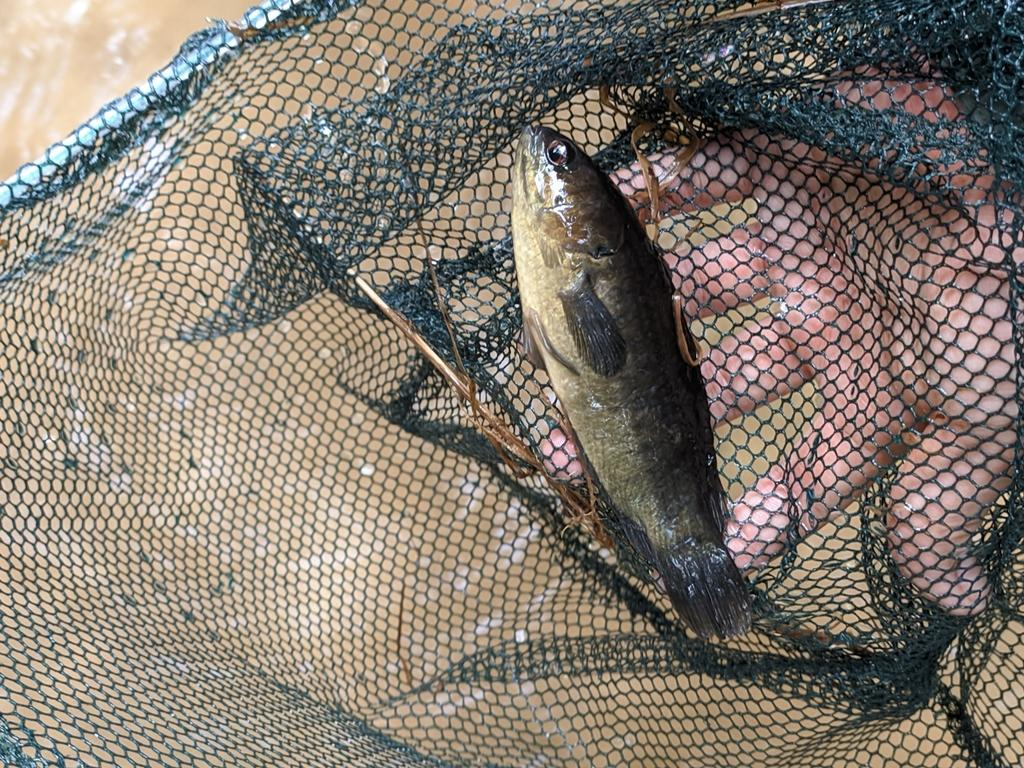Climbing Perch: (515, 120, 752, 648)
